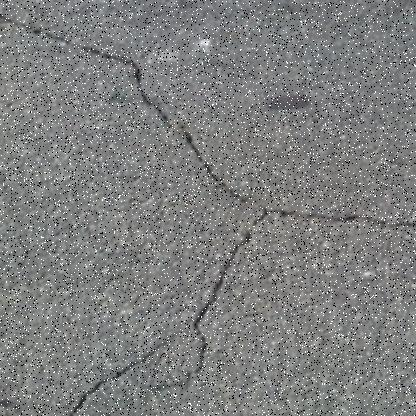Cracks: (0, 10, 416, 235), (41, 198, 284, 416)
